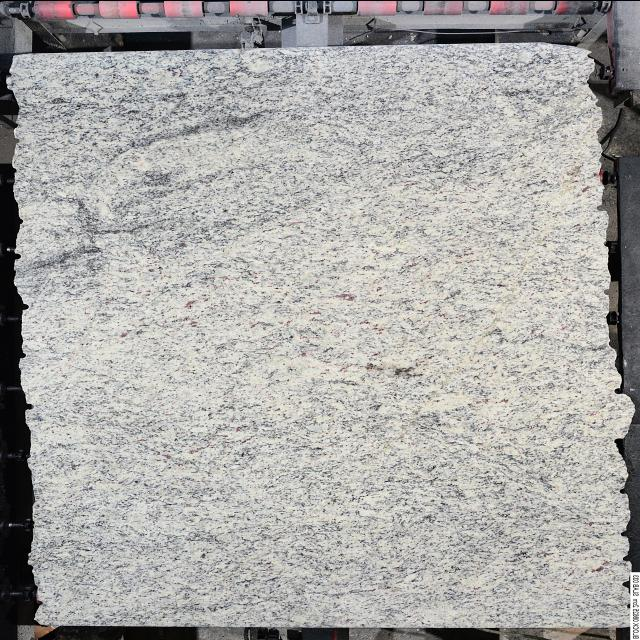chapa: (8, 42, 634, 626)
